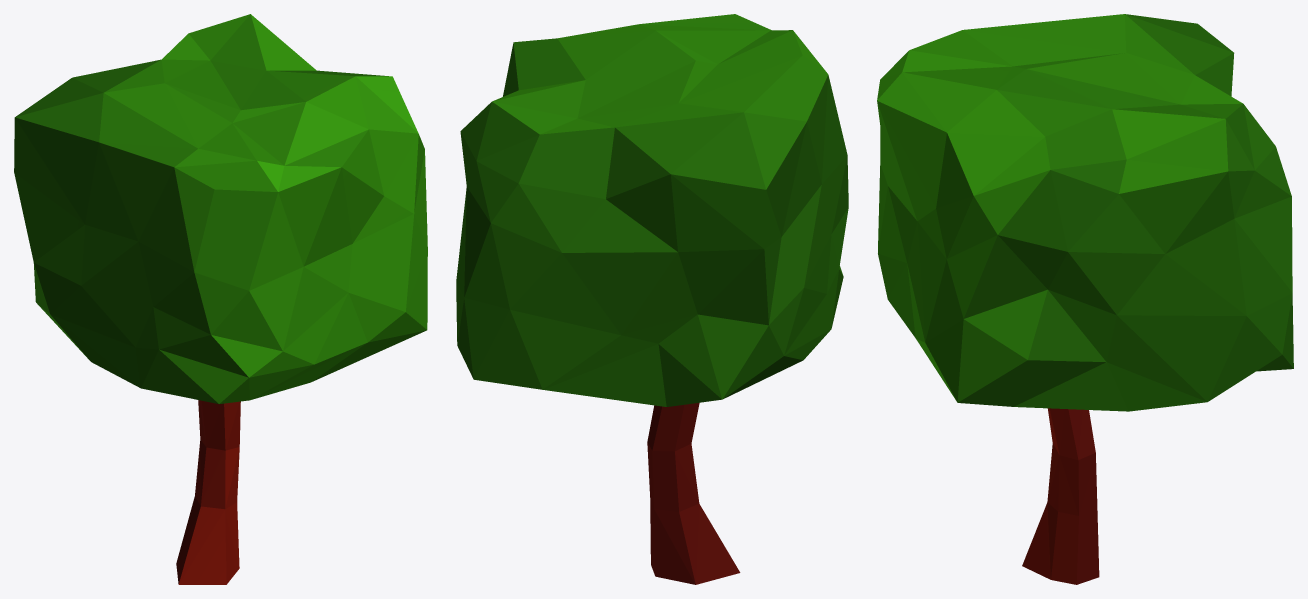
File: tree.FBX
3 views of the same model, side by side, from view 1: azimuth 30°, elevation 25°; view 2: azimuth 150°, elevation 25°; view 3: azimuth 270°, elevation 25° (orthographic). The views are drawn at different scales.
Parts seen in each view (by area): view 1: GeoSphere016; view 2: GeoSphere016; view 3: GeoSphere016.
Boxes of the visible parts, x1,y1,x2,y2 form: GeoSphere016: (14,14,427,584); GeoSphere016: (456,14,848,584); GeoSphere016: (877,14,1293,584).
Bounding box in the file's own units: 92.81 × 133 × 97.92.
